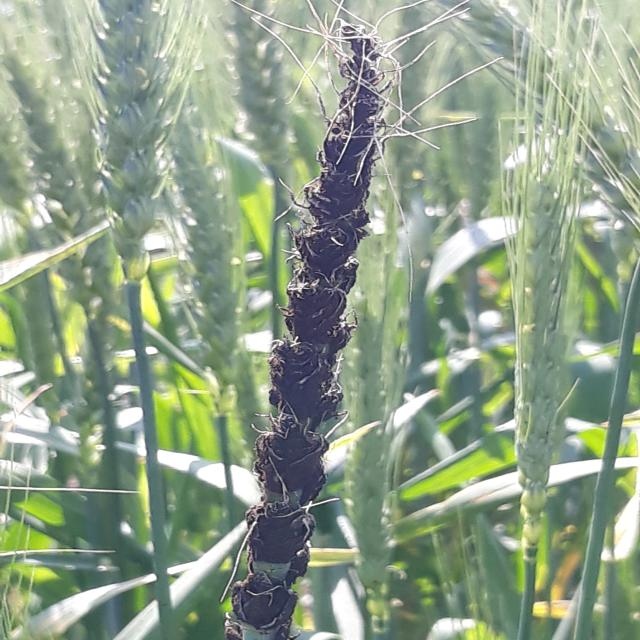loose_charred: (209, 0, 432, 640)
